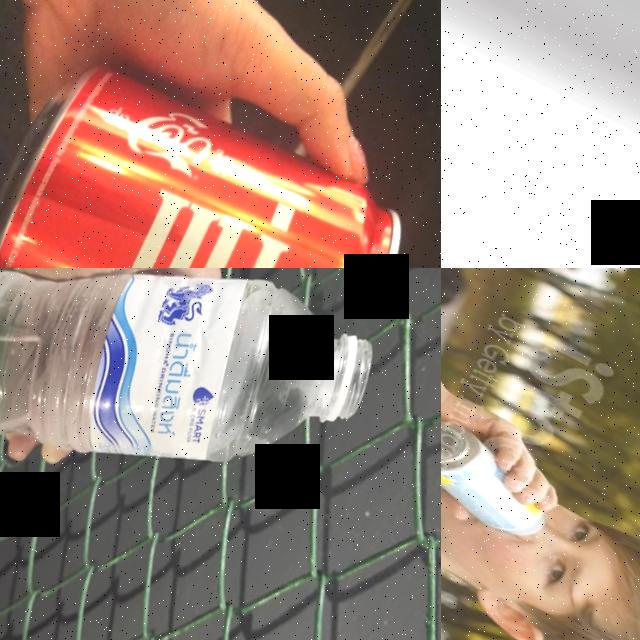bottle: (0, 268, 394, 640)
can: (0, 34, 432, 268), (441, 0, 640, 268), (441, 404, 567, 549)
